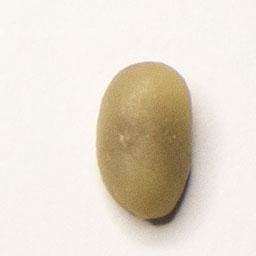longberry: (93, 57, 198, 224)
